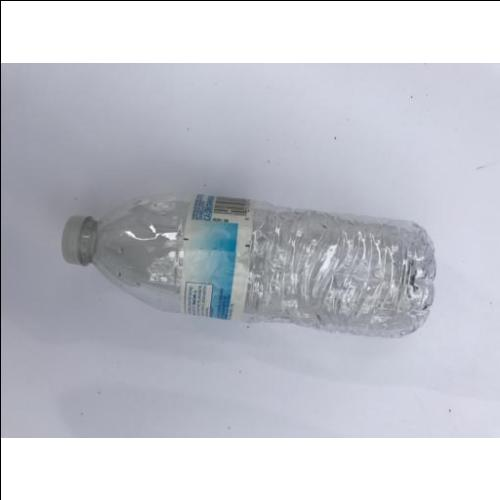plastic: (61, 196, 435, 341)
